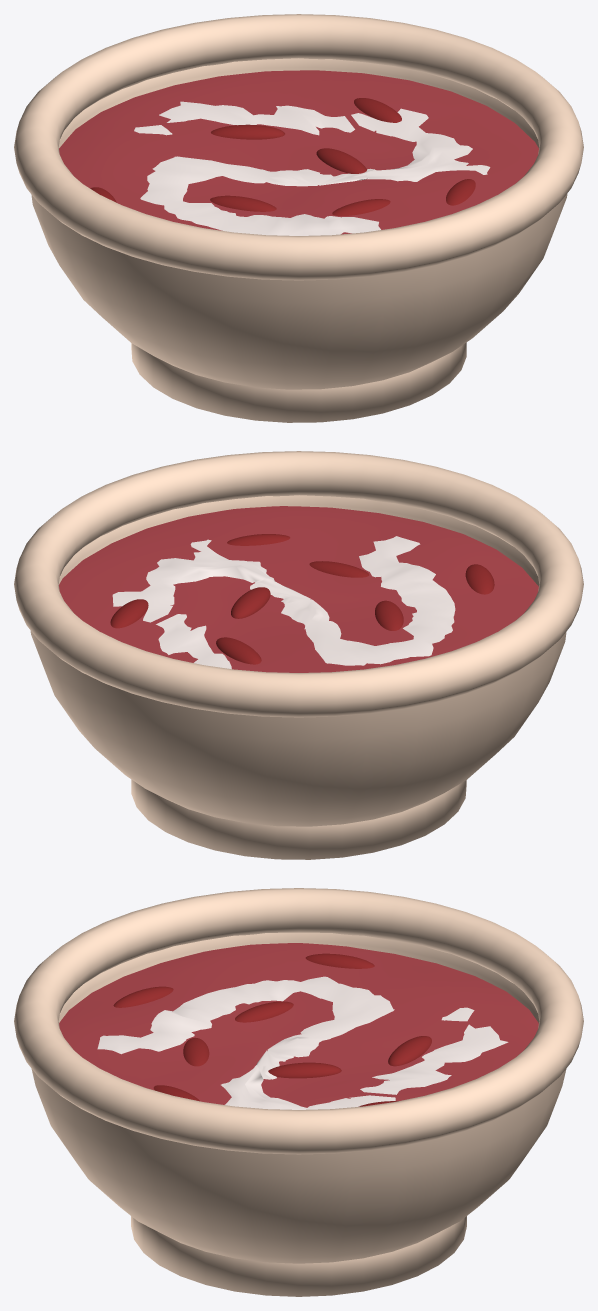
Rendered from pulutEat.fbx.
The picture shows the model from 3 angles, top to bottom: view 1: azimuth 30°, elevation 25°; view 2: azimuth 150°, elevation 25°; view 3: azimuth 270°, elevation 25°; orthographic projection.
Parts seen in each view (by area): view 1: Torus, Sphere.051, Sphere.060, Sphere.055; view 2: Torus, Sphere.051, Sphere.060, Sphere.055; view 3: Torus, Sphere.051, Sphere.060, Sphere.055.
Part boxes in pixels (box(x1,y1,x2,y2)): Torus: box(14, 14, 583, 422); Sphere.051: box(59, 70, 538, 234); Sphere.060: box(134, 101, 490, 235); Sphere.055: box(90, 98, 475, 215); Torus: box(14, 451, 583, 859); Sphere.051: box(59, 506, 538, 672); Sphere.060: box(112, 536, 455, 668); Sphere.055: box(110, 534, 494, 664); Torus: box(14, 888, 583, 1296); Sphere.051: box(59, 943, 538, 1107); Sphere.060: box(97, 976, 508, 1109); Sphere.055: box(113, 953, 431, 1106).
Size of the model in its own units: 208 by 96.31 by 208.
